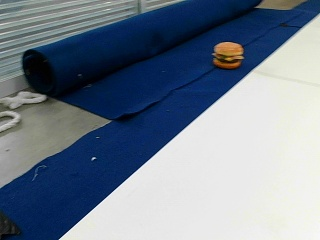burger: (212, 40, 243, 67)
